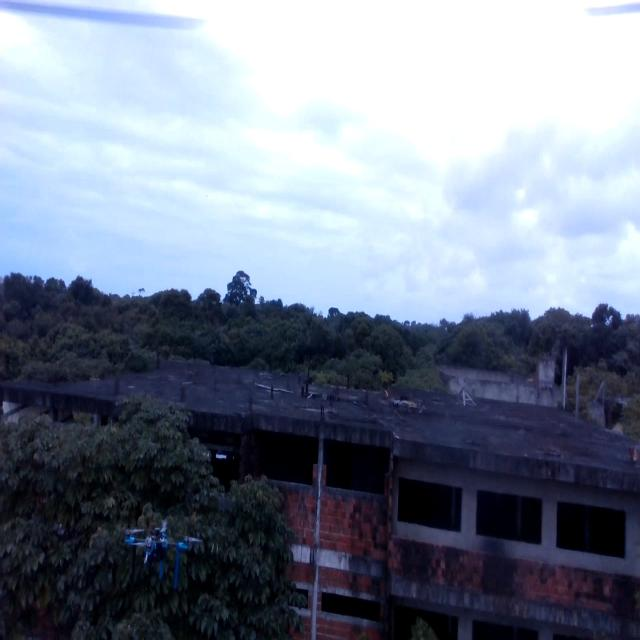-uav-: (112, 508, 201, 605)
